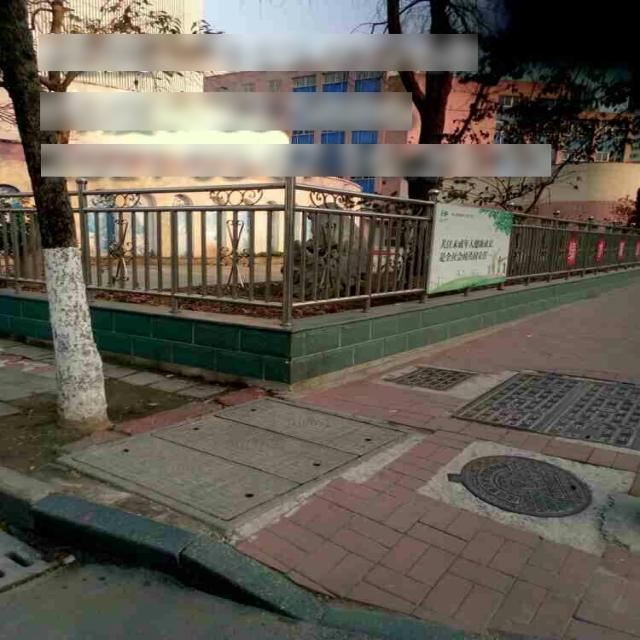Good: (53, 390, 409, 527), (452, 364, 640, 452), (439, 452, 594, 524)
